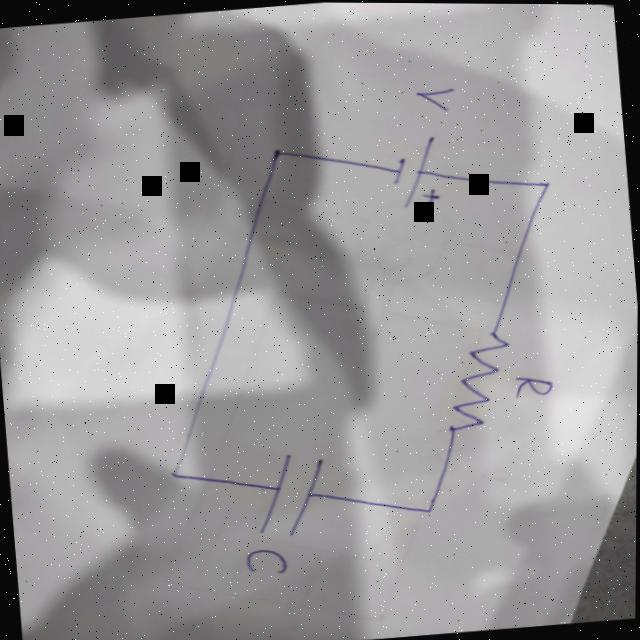capacitor: (252, 446, 332, 539)
junction: (268, 142, 289, 160), (166, 464, 185, 479), (422, 500, 441, 513), (539, 177, 554, 188)
resistor: (440, 325, 518, 431)
source: (387, 131, 444, 209)
text: (244, 543, 291, 576), (512, 369, 556, 399), (414, 85, 458, 113)
